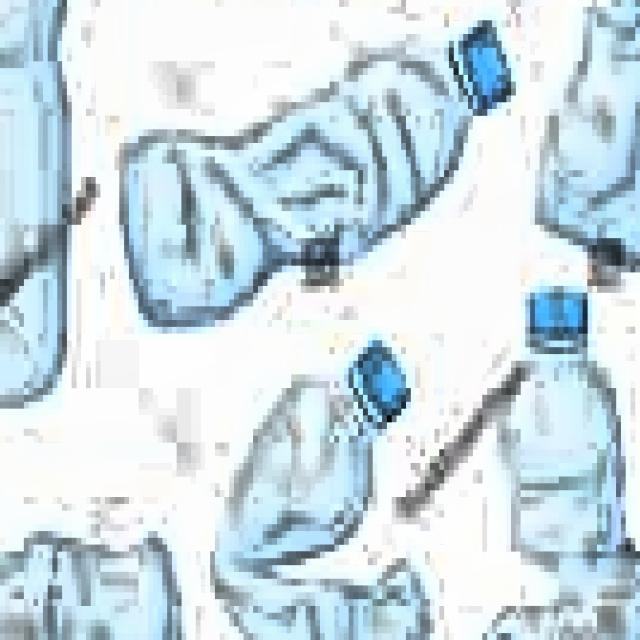plastic: (117, 13, 514, 335), (214, 333, 444, 640), (473, 279, 640, 640), (0, 449, 201, 640), (0, 0, 76, 435), (544, 0, 640, 279)
